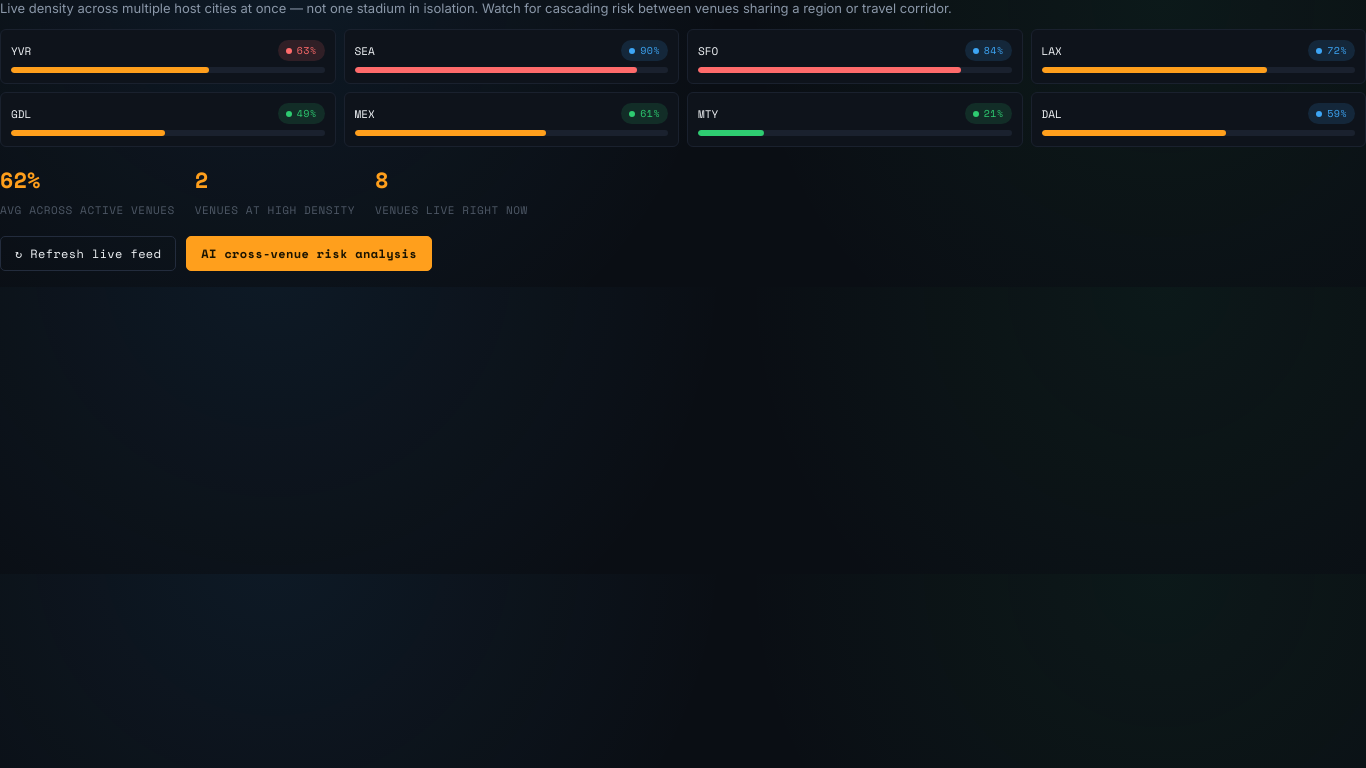
CrowdMesh › re-randomizes the venue feed and clears any prior result on refresh
The width and height of the screenshot is (1366, 768).
Click the button "AI cross-venue risk analysis": [309, 254] box [186, 236, 432, 271]
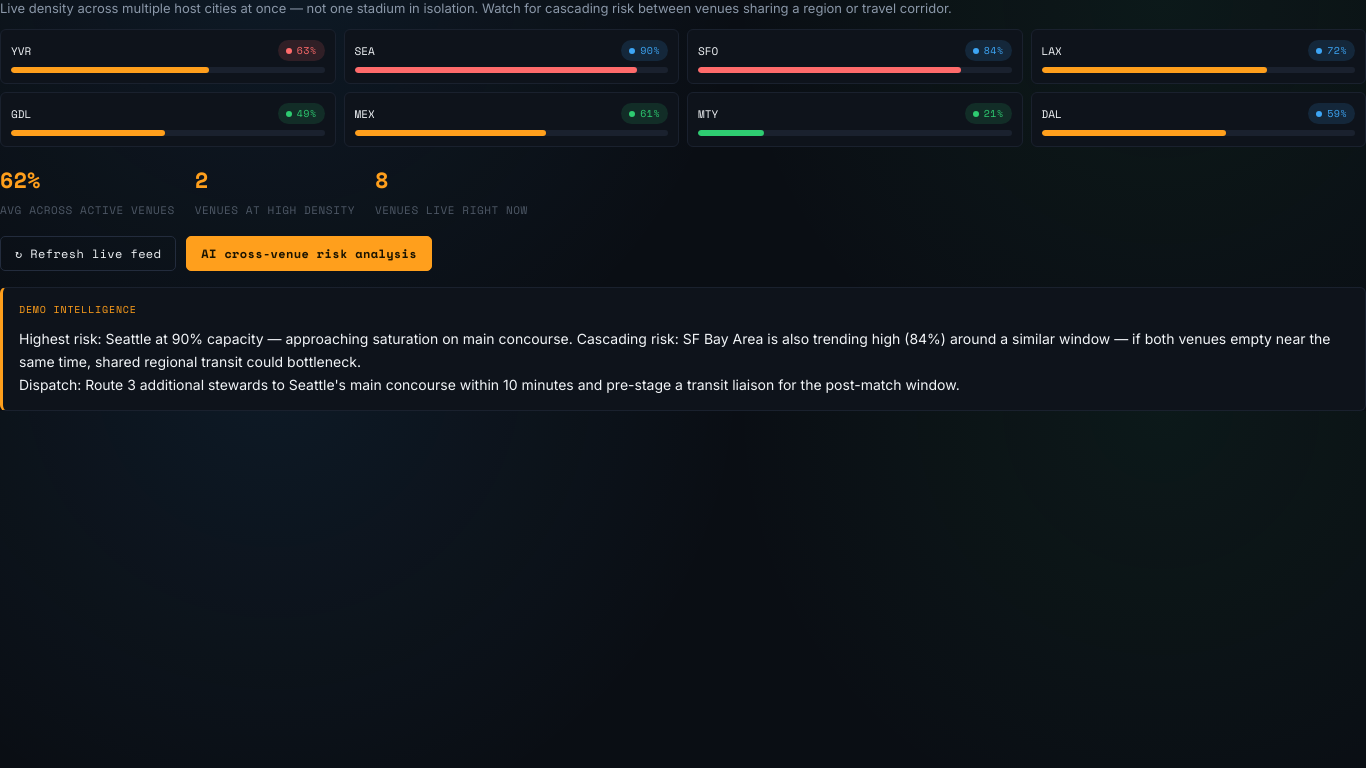
Expected: the text "Demo intelligence" is shown, [19, 302, 137, 317]
Click the button "↻ Refresh live feed": [88, 254] box [0, 236, 176, 271]
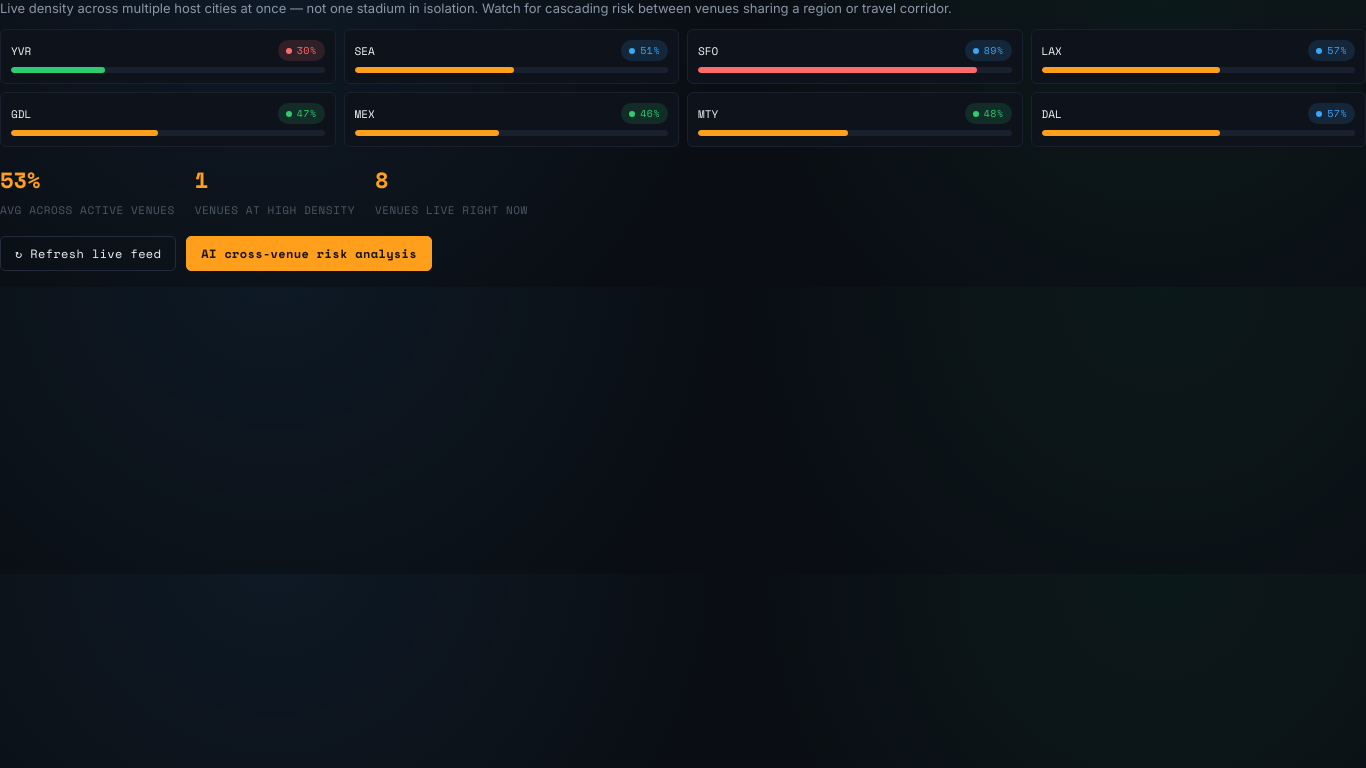
Expected: the text "Demo intelligence" is gone
